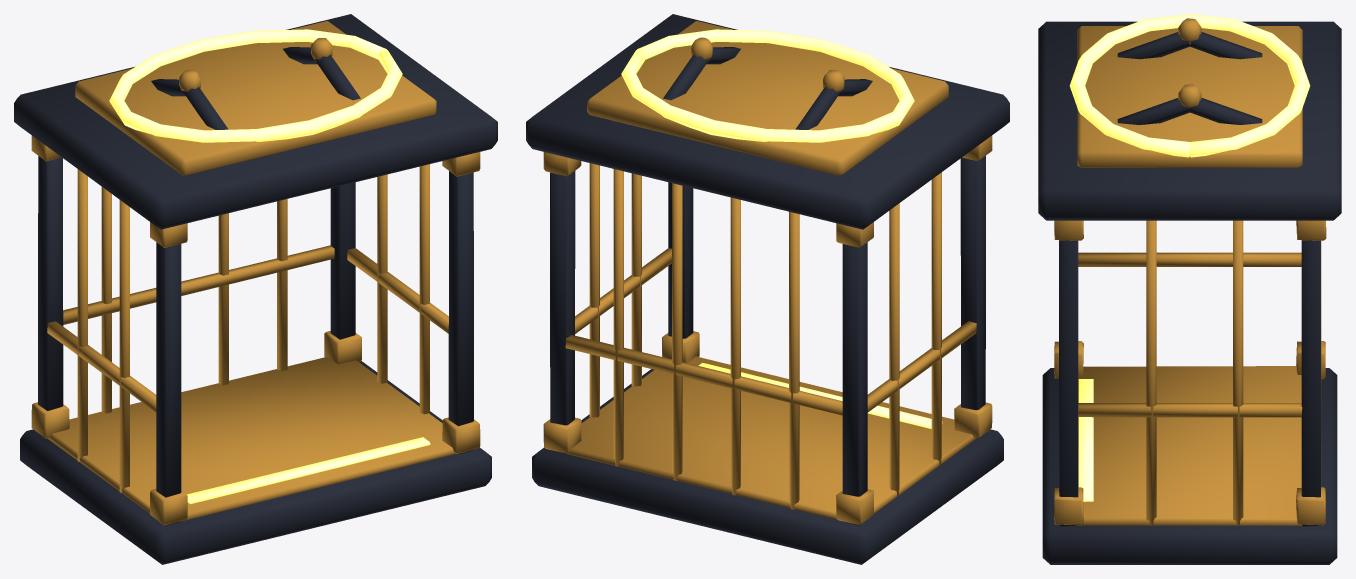
File: cage_elevator.glb
The picture shows the model from 3 angles, left to right: view 1: azimuth 30°, elevation 25°; view 2: azimuth 150°, elevation 25°; view 3: azimuth 270°, elevation 25°; orthographic projection. The views are drawn at different scales.
Visible parts, largest first — view 1: cage_frame, lantern_core; view 2: cage_frame, lantern_core; view 3: cage_frame, lantern_core.
Boxes of the visible parts, left/top/right/bottom form: cage_frame: left=14, top=14, right=497, bottom=564; lantern_core: left=109, top=29, right=430, bottom=504; cage_frame: left=526, top=14, right=1009, bottom=564; lantern_core: left=621, top=29, right=942, bottom=428; cage_frame: left=1038, top=18, right=1341, bottom=564; lantern_core: left=1069, top=14, right=1310, bottom=501.
Bounding box in the file's own units: 0.94 × 1.1 × 0.7.
